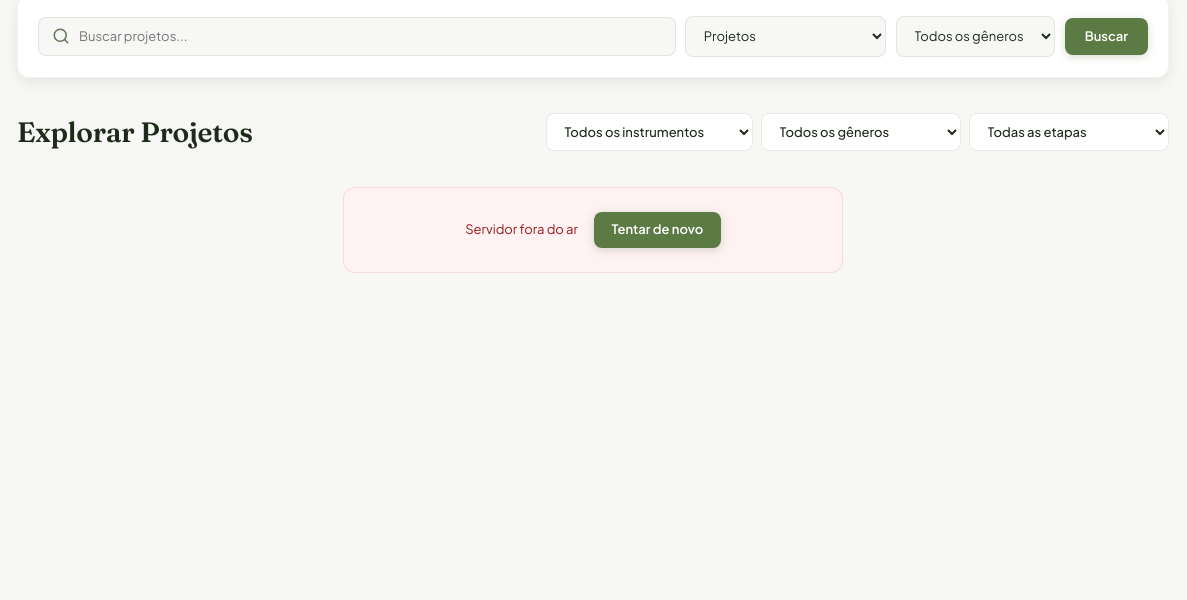
Test: Feed › erro de carregamento permite tentar de novo
Expected: the text "Servidor fora do ar" is shown, [465,219,578,240]
What coordinates should you click on to do the following:
click the button "Tentar de novo"
I would click on:
 (657, 230)
Its box is [594,212,721,248].
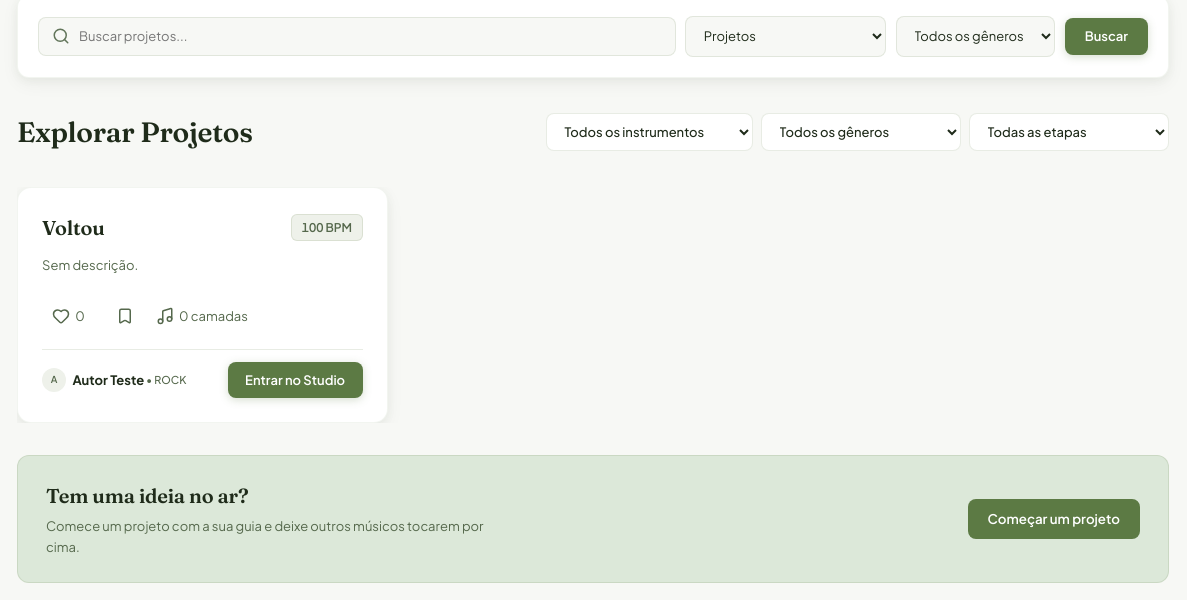
Now the link "Voltou" is shown, box [42,215,105,240]
